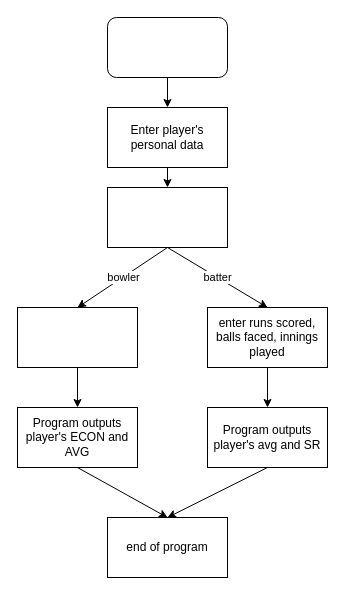
Image size: 345x595. Some labels were removed from this diagram. The shapes that lost their labels are listed below. From the top down, each one's centre as x and y in pixels, then its label:
At pixel 167 47: "Open the program".
At pixel 167 217: "Choose player type".
At pixel 77 337: "enter runs allowed, balls bowled, wickets taken".
